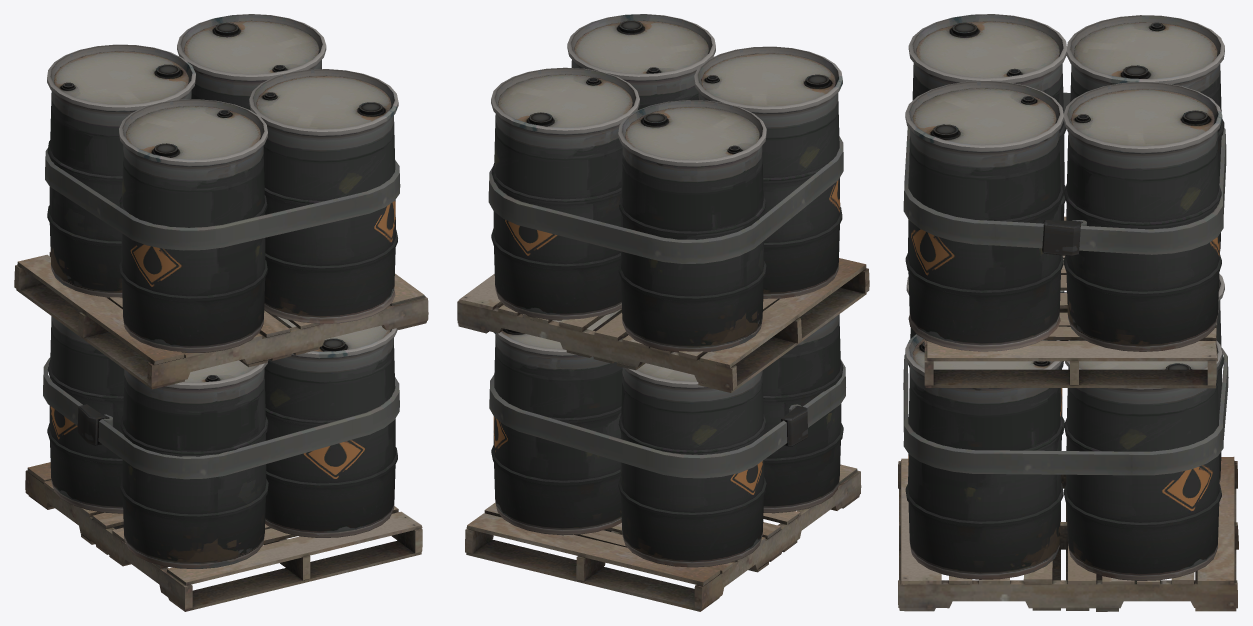
File: barrel_cluster02a.glb
3 renders of one model, left to right at view 1: azimuth 30°, elevation 25°; view 2: azimuth 150°, elevation 25°; view 3: azimuth 270°, elevation 25°, orthographic. The views are drawn at different scales.
Visible parts, largest first — view 1: barrel_cluster02a; view 2: barrel_cluster02a; view 3: barrel_cluster02a.
Part boxes in pixels (bbox=[...]): barrel_cluster02a: bbox=[14, 14, 428, 611]; barrel_cluster02a: bbox=[457, 14, 869, 611]; barrel_cluster02a: bbox=[898, 14, 1238, 611].
Bounding box in the file's own units: 1.43 × 2.16 × 1.43.
Materials: 3 (3 with a texture image).
